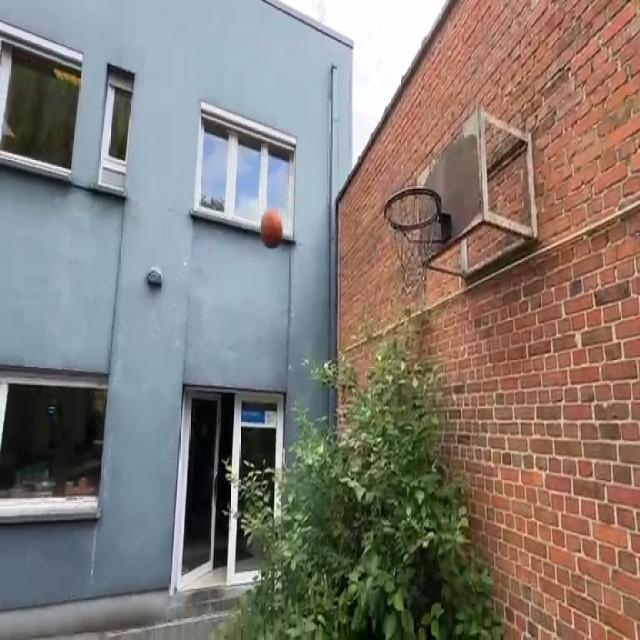Basketball: (261, 210, 283, 250)
